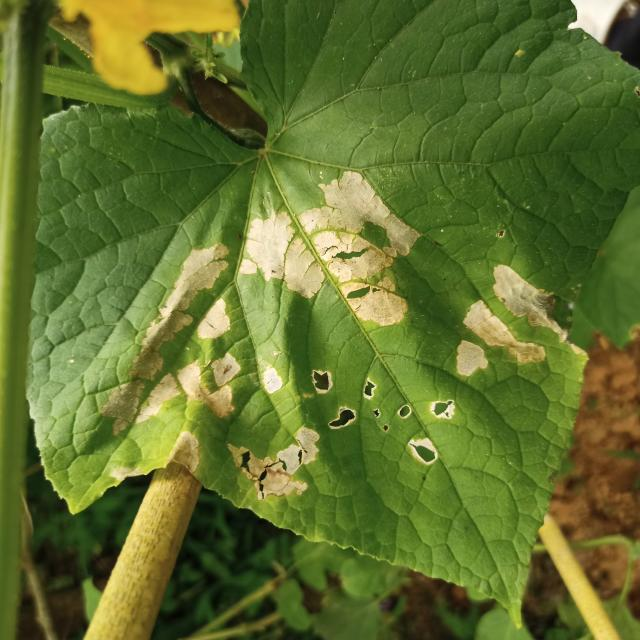disease_cucumber: (99, 171, 577, 498)
